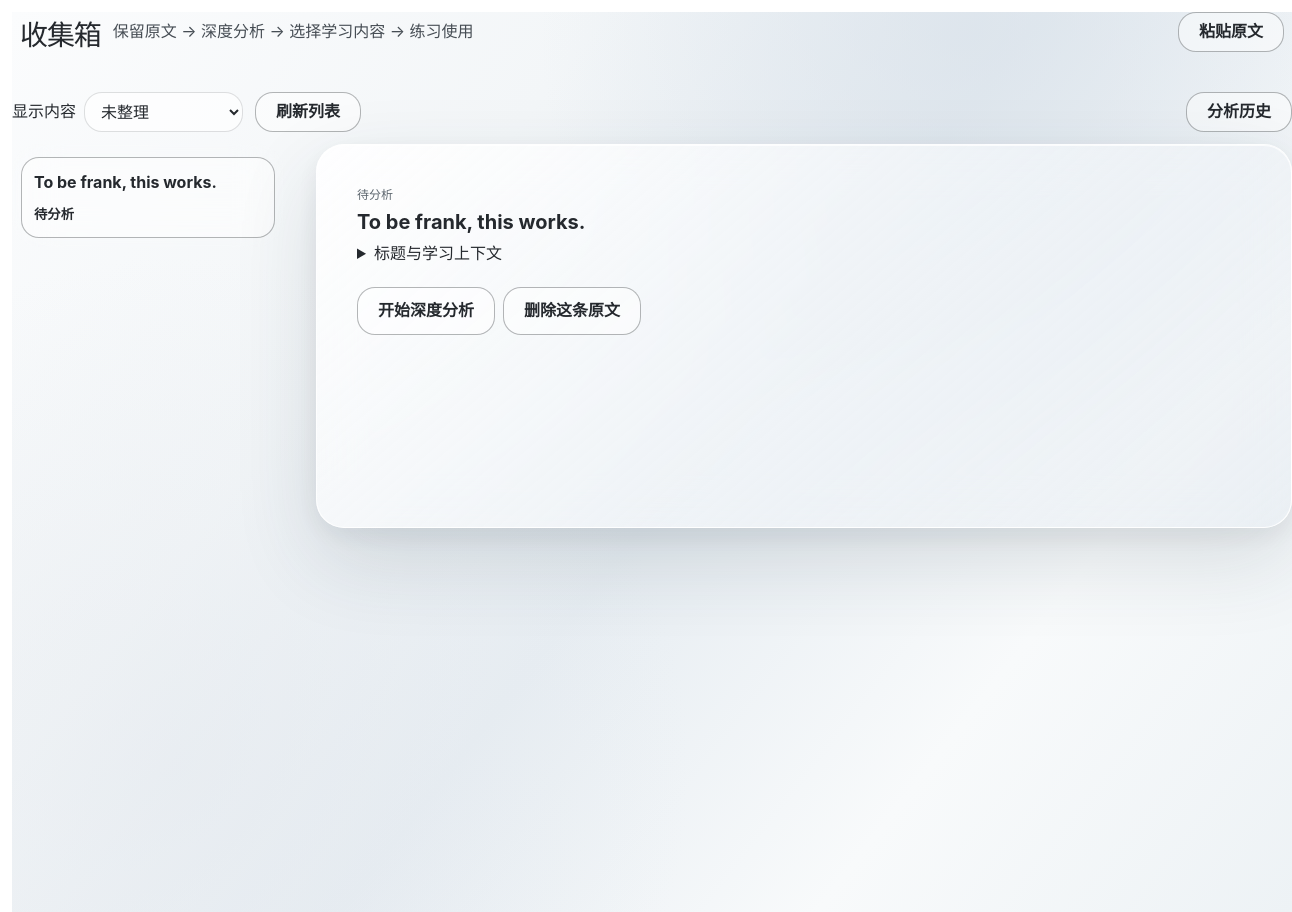
it: keeps failed original text, recovery classification and diagnostic for outcome_unknown
Step 1. Click the button "开始深度分析" → (426, 311), box [357,287,495,335]
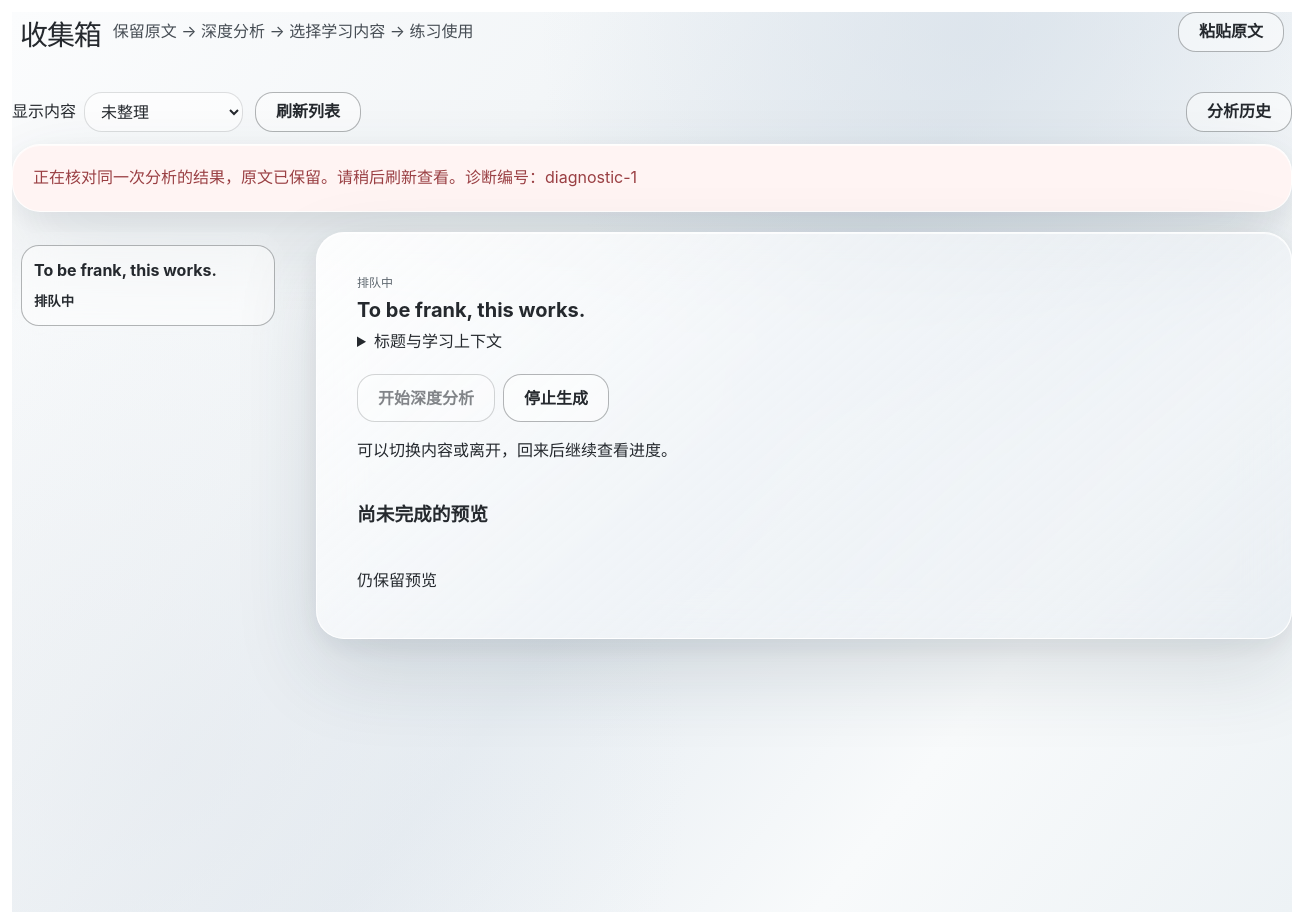
Expected: the 1st message shows "原文已保留", [33,167,637,187]
Expected: the text "diagnostic-1" is shown, [33,167,637,187]
Expected: the 1st message shows "正在核对同一次分析", [33,167,637,187]
